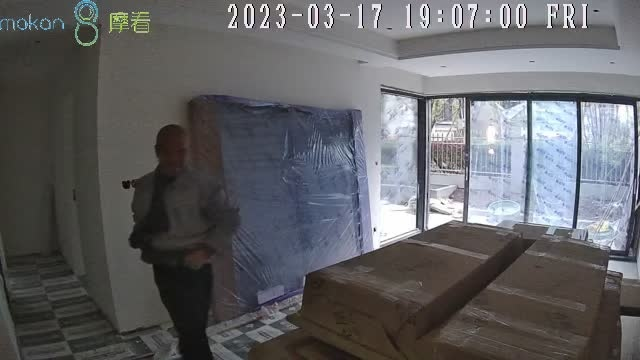people: (132, 124, 242, 360)
window: (424, 93, 634, 256)
